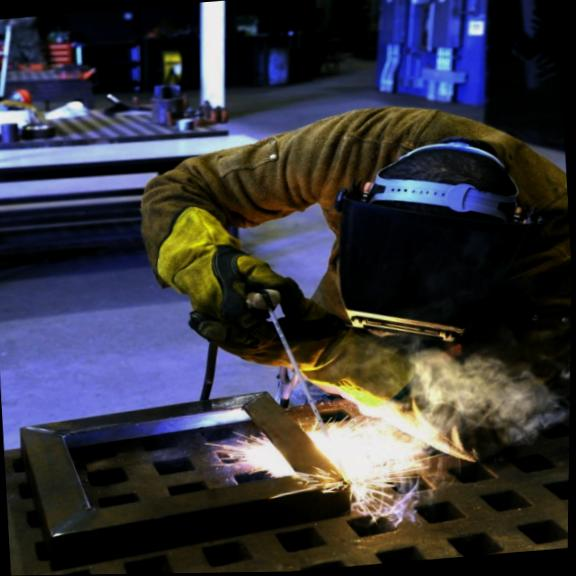no_safety_vest: (273, 73, 575, 444)
